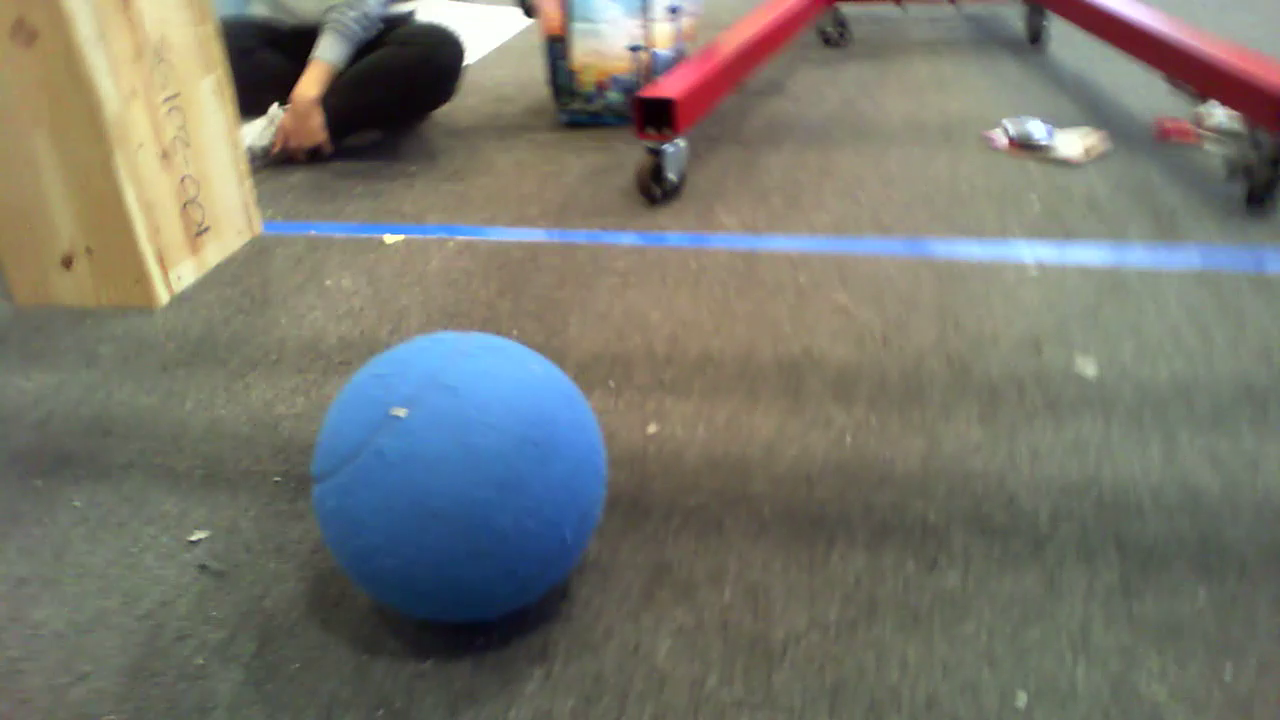blue_cargo: (325, 307, 612, 621)
